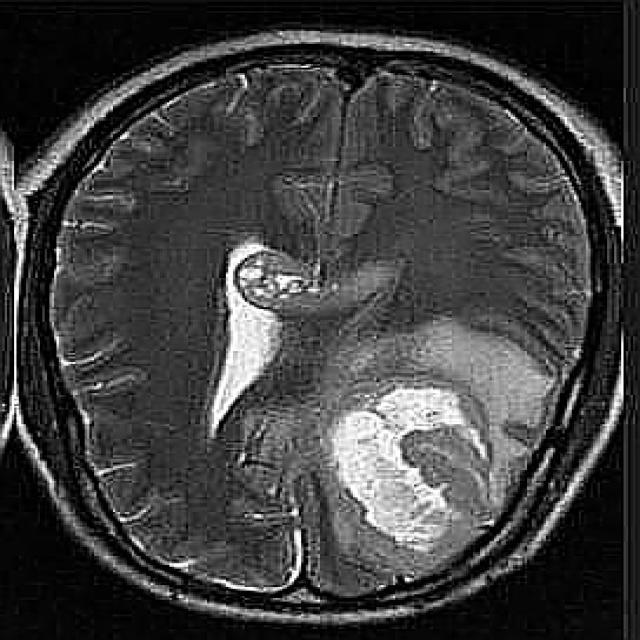Tumor-Cell: (328, 362, 520, 556)
